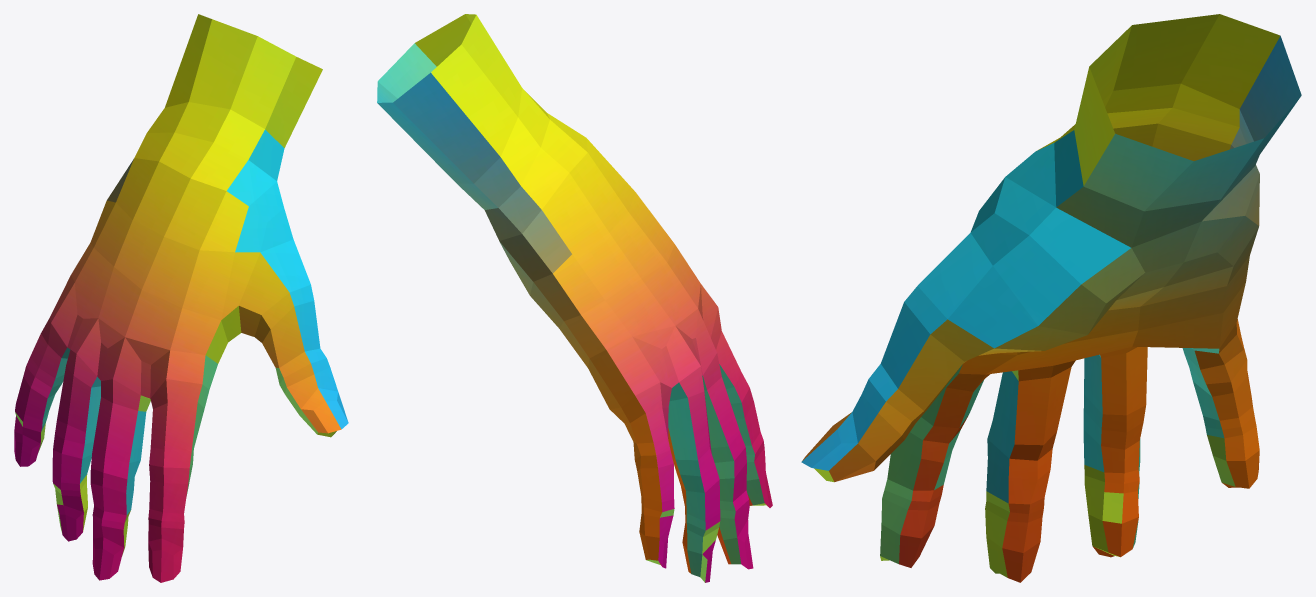
Rendered from checkered_hand-CeHOTQ_A.glb.
The picture shows the model from 3 angles, left to right: view 1: azimuth 30°, elevation 25°; view 2: azimuth 150°, elevation 25°; view 3: azimuth 270°, elevation 25°; orthographic projection. The views are drawn at different scales.
Parts seen in each view (by area): view 1: Plane005; view 2: Plane005; view 3: Plane005.
Boxes of the visible parts, <box> form: Plane005: <box>14,14,348,582</box>; Plane005: <box>377,14,772,582</box>; Plane005: <box>801,14,1301,582</box>.
Size of the model in its own units: 0.5812 by 0.9553 by 0.6237.
Materials: 1 (1 with a texture image).
